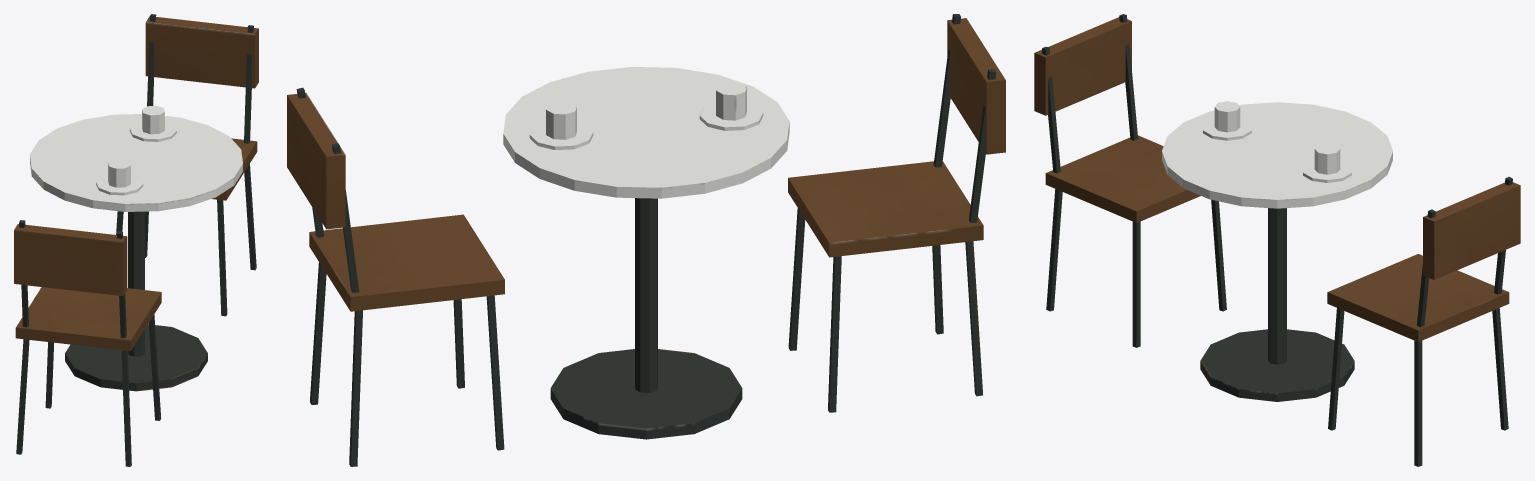
File: stolek_kavarna_d4a5015b.glb
3 views of the same model, side by side, from view 1: azimuth 30°, elevation 25°; view 2: azimuth 150°, elevation 25°; view 3: azimuth 270°, elevation 25° (orthographic). The views are drawn at different scales.
Visible parts, largest first — view 1: dum; view 2: dum; view 3: dum.
Boxes of the visible parts, x1,y1,x2,y2 form: dum: (14,14,258,466); dum: (287,14,1005,466); dum: (1034,14,1520,466).
Bounding box in the file's own units: 1.51 × 0.8796 × 1.51.
1 material, 1 textured.
